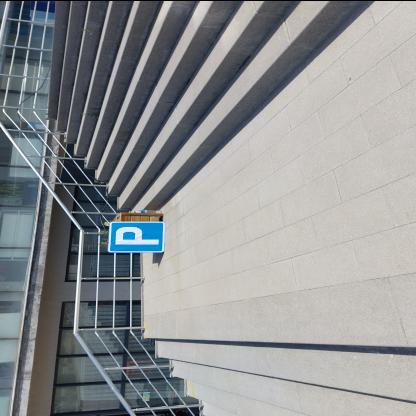Parking-Sign: (108, 221, 167, 253)
